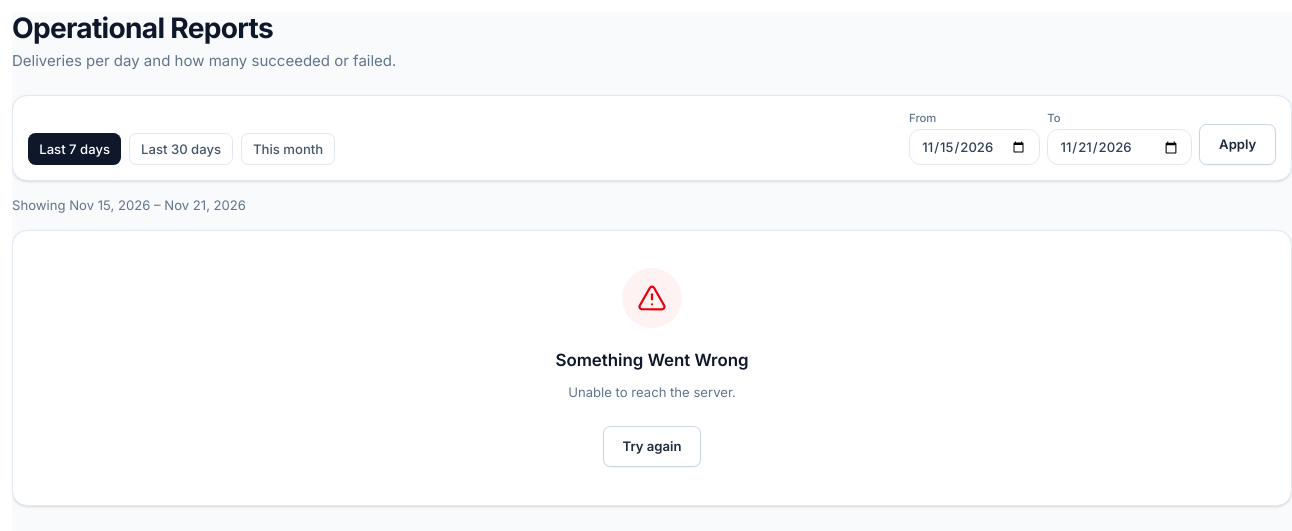
Test: a failed load offers to try again
Expected: the text "Unable to reach the server." is shown, [568, 381, 736, 403]
Click the button "Try again".
click(652, 446)  # box [603, 426, 701, 467]
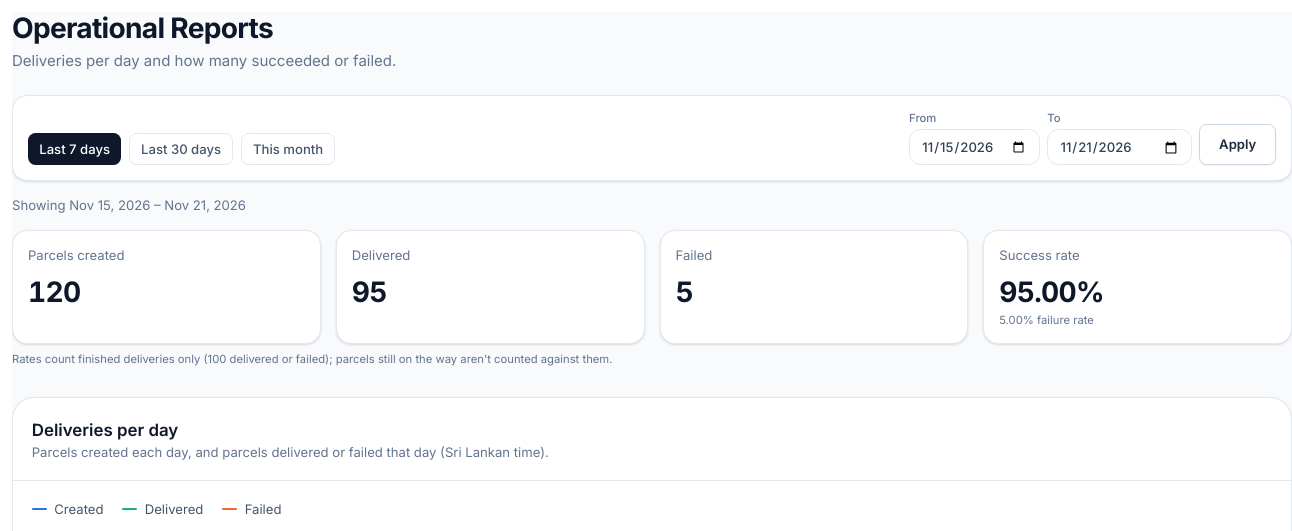
Now the text "95.00%" is shown, box [999, 275, 1104, 309]
